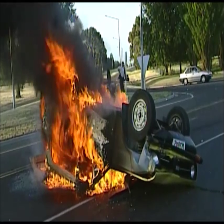fire_h: (43, 36, 108, 186), (85, 169, 127, 195), (44, 171, 75, 189)
fire_l: (113, 86, 128, 108), (101, 82, 110, 100), (40, 158, 50, 170), (40, 96, 45, 117), (45, 64, 51, 73)
